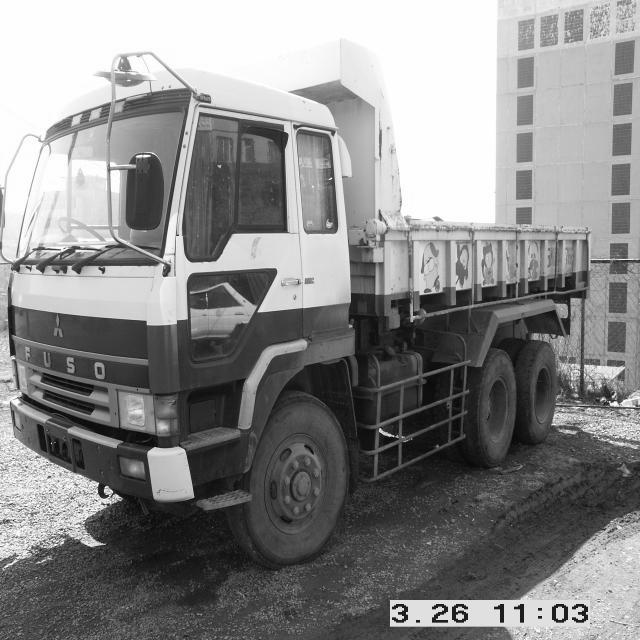truck: (1, 66, 408, 529)
